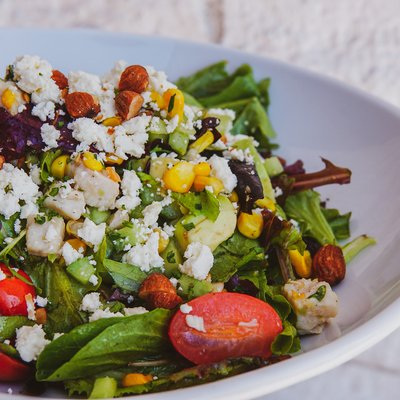sushi: (1, 47, 385, 395)
